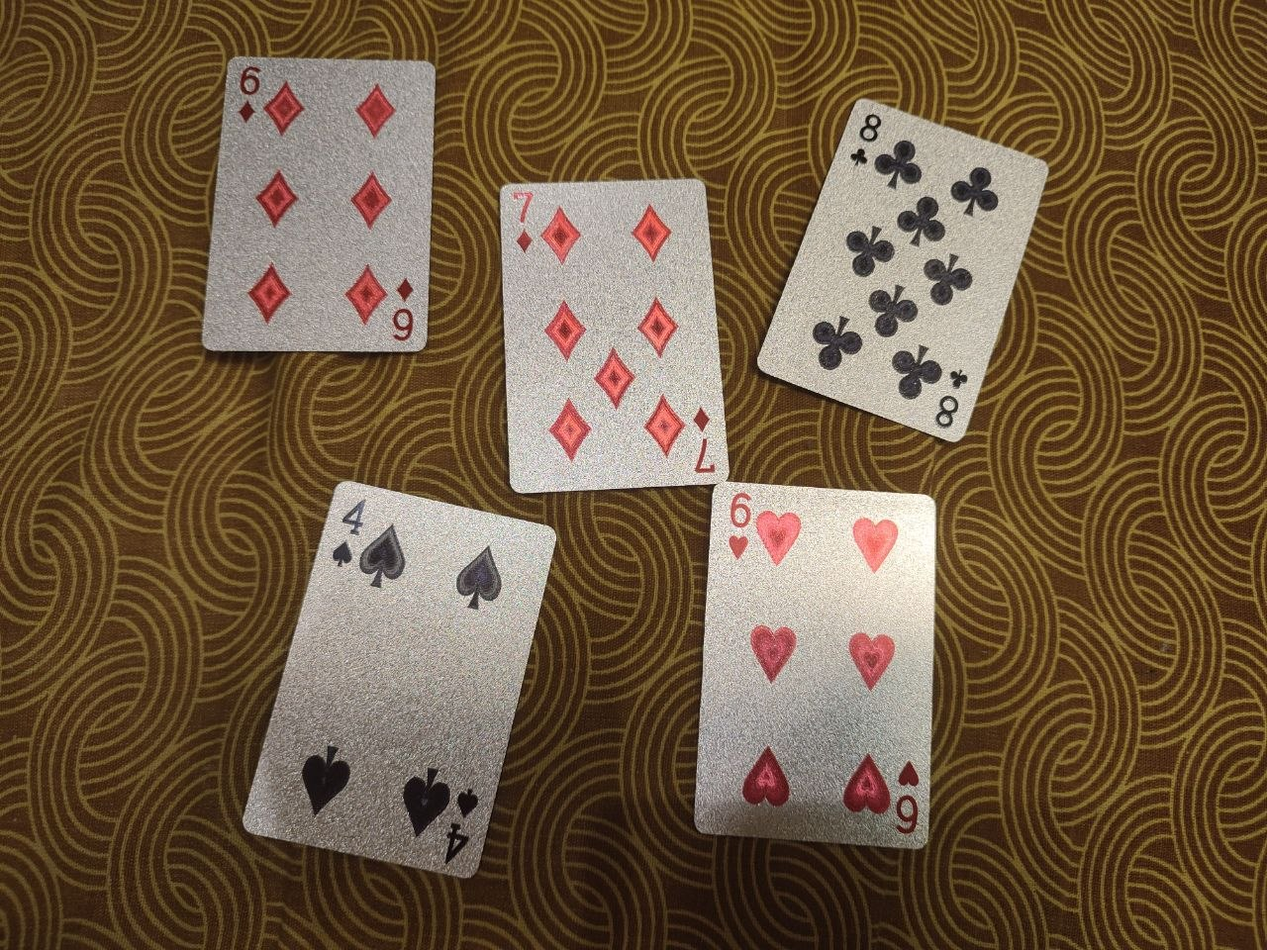4S: (243, 478, 558, 880)
6D: (199, 53, 437, 355)
6H: (692, 478, 939, 852)
7D: (498, 176, 732, 495)
8C: (758, 97, 1048, 441)
